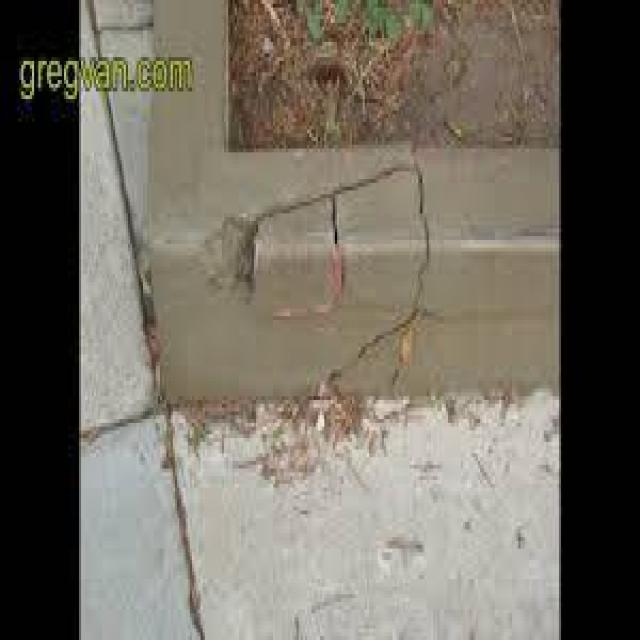curb: (151, 147, 557, 412), (147, 6, 230, 231)
